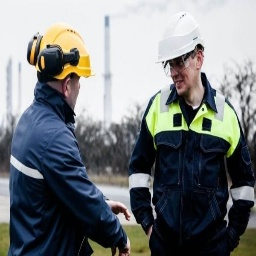helmet: (29, 26, 95, 86), (154, 16, 204, 63)
no-vest: (142, 91, 240, 227), (15, 103, 105, 250)
person: (143, 14, 240, 253), (8, 22, 104, 250)
